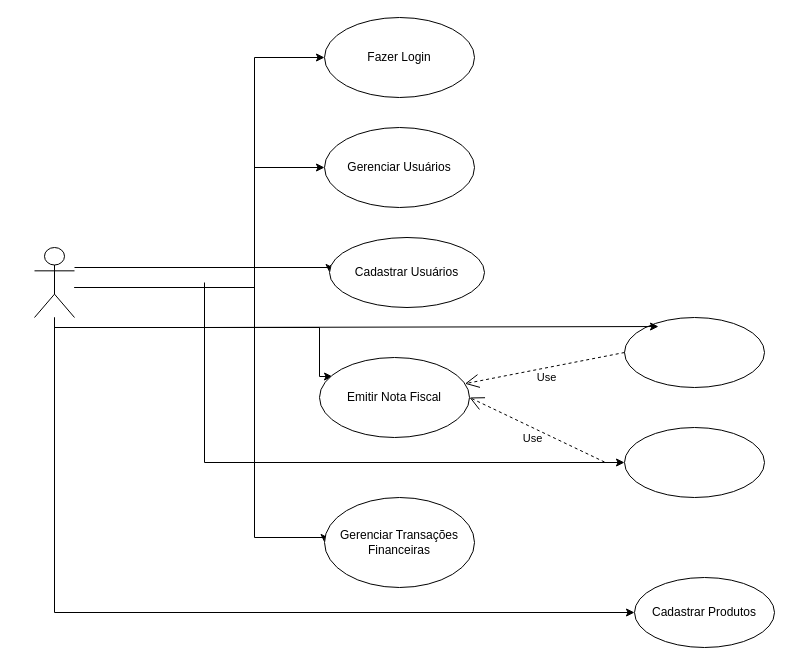
The diagram is 792 pixels wide and 665 high, and some of its shapes have lost their labels. Each missing label, with the box of its shape:
Administrador: (34, 246, 74, 318)
Gerenciar Clientes: (624, 316, 764, 388)
Gerenciar Produtos: (624, 426, 764, 498)
